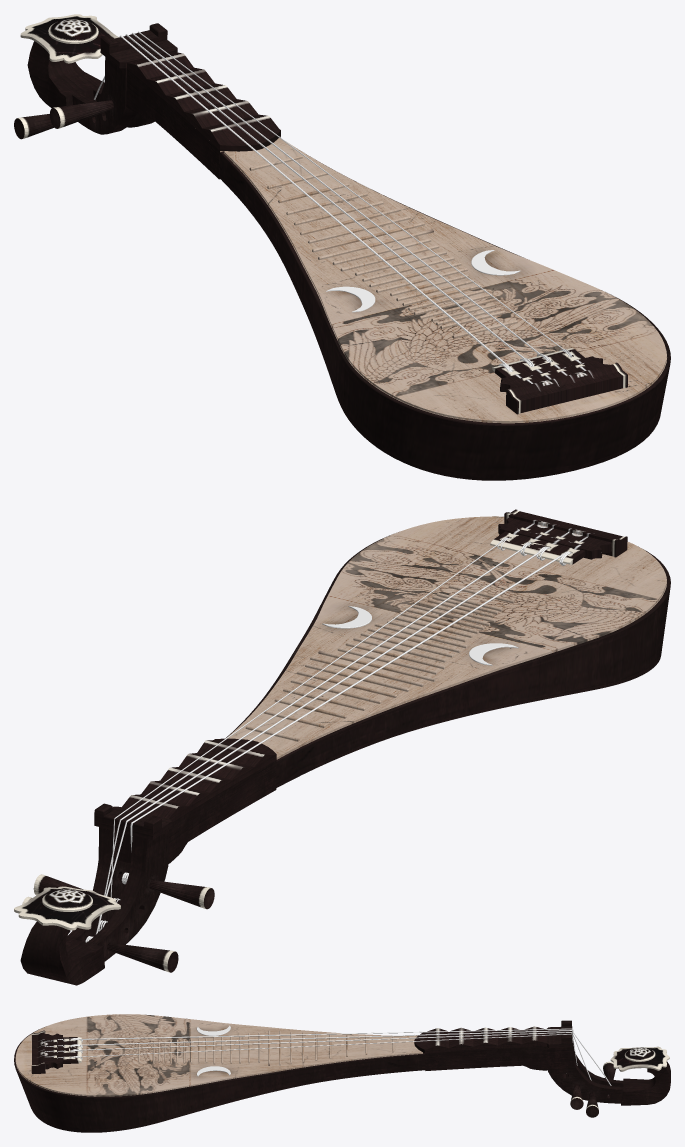
File: Lute_N260816.obj
3 views of the same model, one above another, from view 1: azimuth 30°, elevation 25°; view 2: azimuth 150°, elevation 25°; view 3: azimuth 270°, elevation 25° (orthographic). The views are drawn at different scales.
Visible parts, largest first — view 1: Archmodels67_11, Object01; view 2: Archmodels67_11, Object01; view 3: Archmodels67_11, Object01.
Part boxes in pixels (x1,y1,x2,y2): Archmodels67_11: [14, 14, 670, 480]; Object01: [94, 31, 572, 371]; Archmodels67_11: [14, 509, 670, 985]; Object01: [85, 537, 571, 942]; Archmodels67_11: [14, 1014, 670, 1132]; Object01: [70, 1028, 611, 1085].
Bounding box in the file's own units: 10.06 × 3.99 × 33.64.
